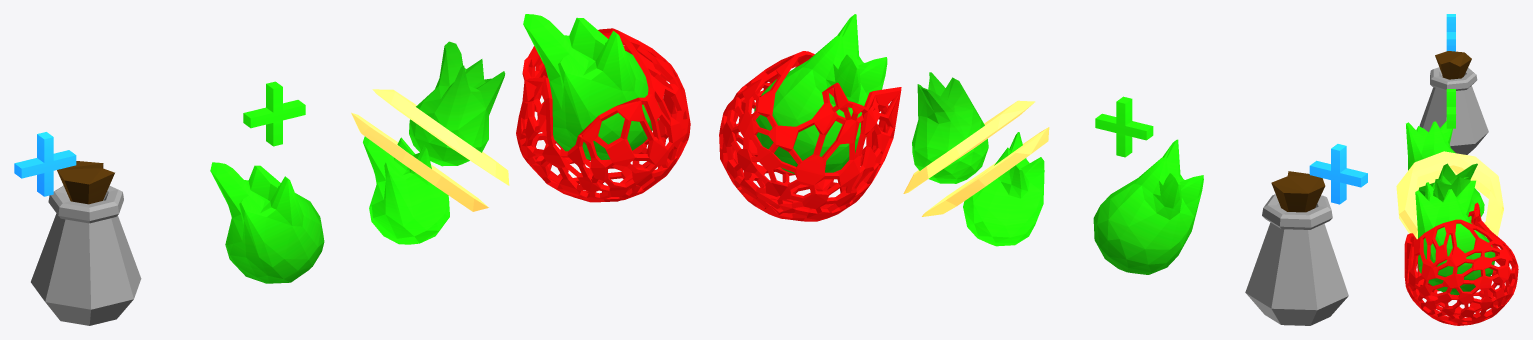
The model's file is poweradds.fbx.
The picture shows the model from 3 angles, left to right: view 1: azimuth 30°, elevation 25°; view 2: azimuth 150°, elevation 25°; view 3: azimuth 270°, elevation 25°; orthographic projection. The views are drawn at different scales.
Parts seen in each view (by area): view 1: Text.003, Sphere.006, Text.002, Text.004; view 2: Text.003, Sphere.006, Text.002, Text.004; view 3: Text.003, Sphere.006, Text.002, Text.004.
Part boxes in pixels (<box>): Text.003: <box>516,14,690,202</box>; Sphere.006: <box>351,41,509,244</box>; Text.002: <box>14,132,141,325</box>; Text.004: <box>210,81,324,283</box>; Text.003: <box>719,14,901,221</box>; Sphere.006: <box>903,72,1049,246</box>; Text.002: <box>1245,144,1367,325</box>; Text.004: <box>1093,96,1203,274</box>; Text.003: <box>1404,180,1518,325</box>; Sphere.006: <box>1396,151,1503,239</box>; Text.002: <box>1419,14,1488,154</box>; Text.004: <box>1406,89,1456,196</box>.
Size of the model in its own units: 2943 by 852 by 728.
Materials: 2 (1 with a texture image).
